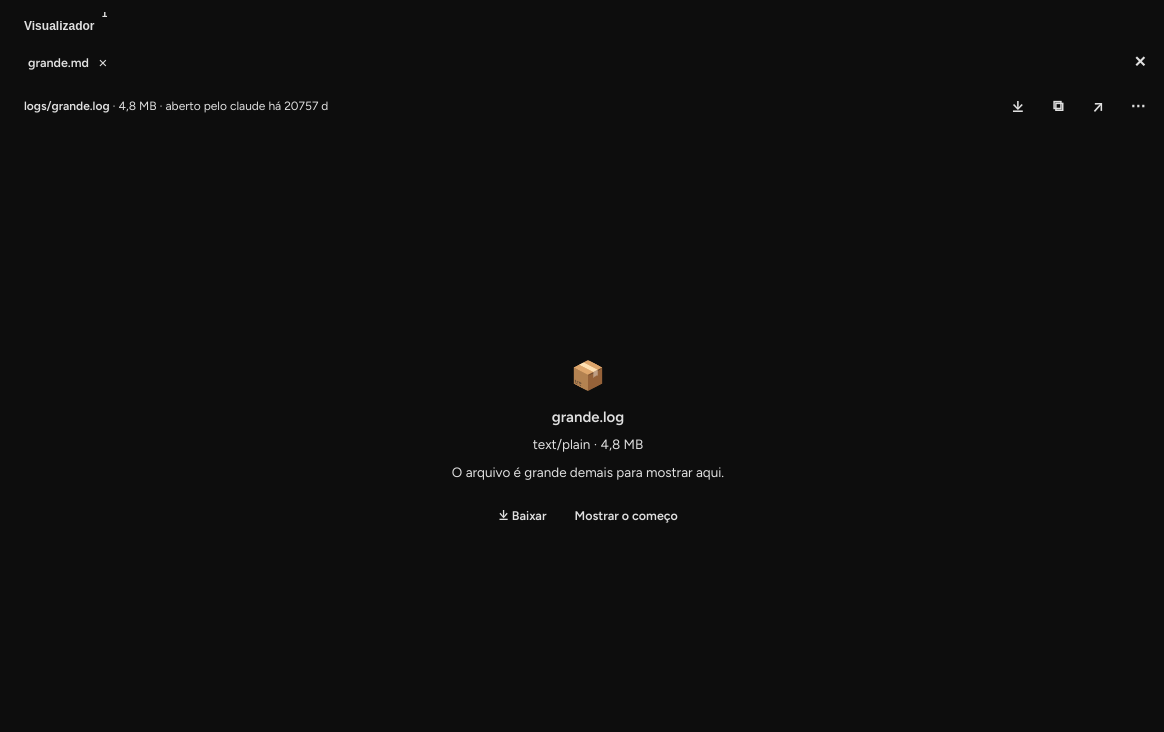
Scenario: ViewerPanel › arquivo > 1 MB: cartão de download, e "Mostrar o começo" mostra o texto
Expected: the text "O arquivo é grande demais para mostrar aqui." is shown, [452,462,724,483]
Click the button "Mostrar o começo": click(626, 516) [564,498,688,534]
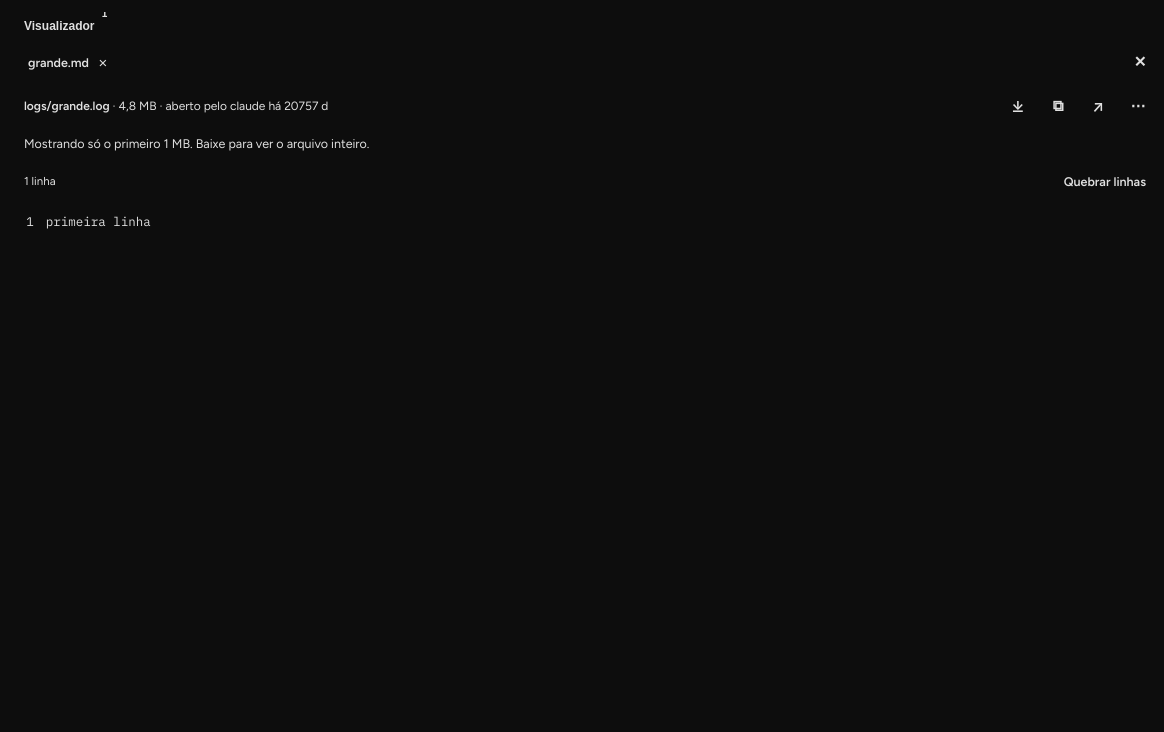
Expected: the text "primeira linha" is shown, [46,213,151,229]
Expected: the text "Mostrando só o primeiro 1 MB" is shown, [24,136,370,151]
